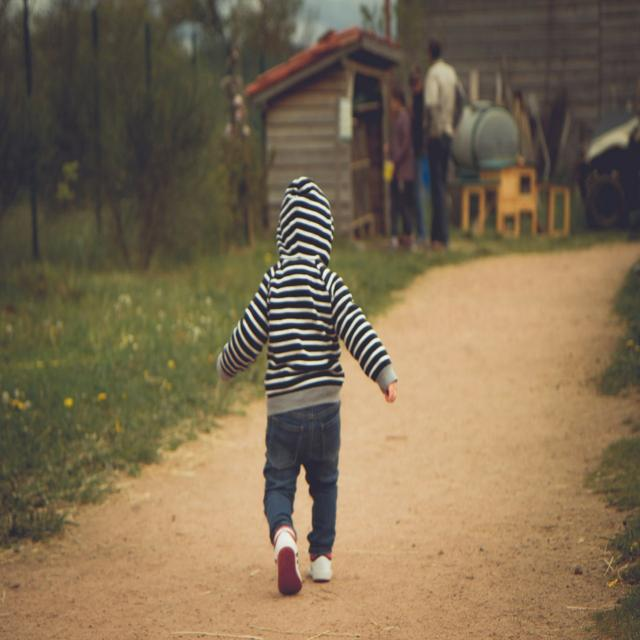Person: (217, 173, 397, 596), (424, 38, 462, 247), (387, 89, 419, 254)
